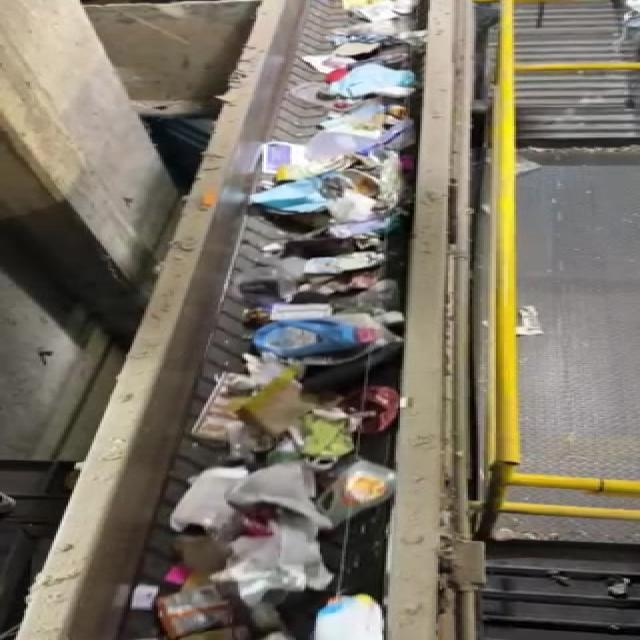hdpe: (320, 456, 410, 545)
paper: (228, 528, 342, 612)
pp: (130, 579, 232, 640)
ps: (168, 454, 244, 539)
